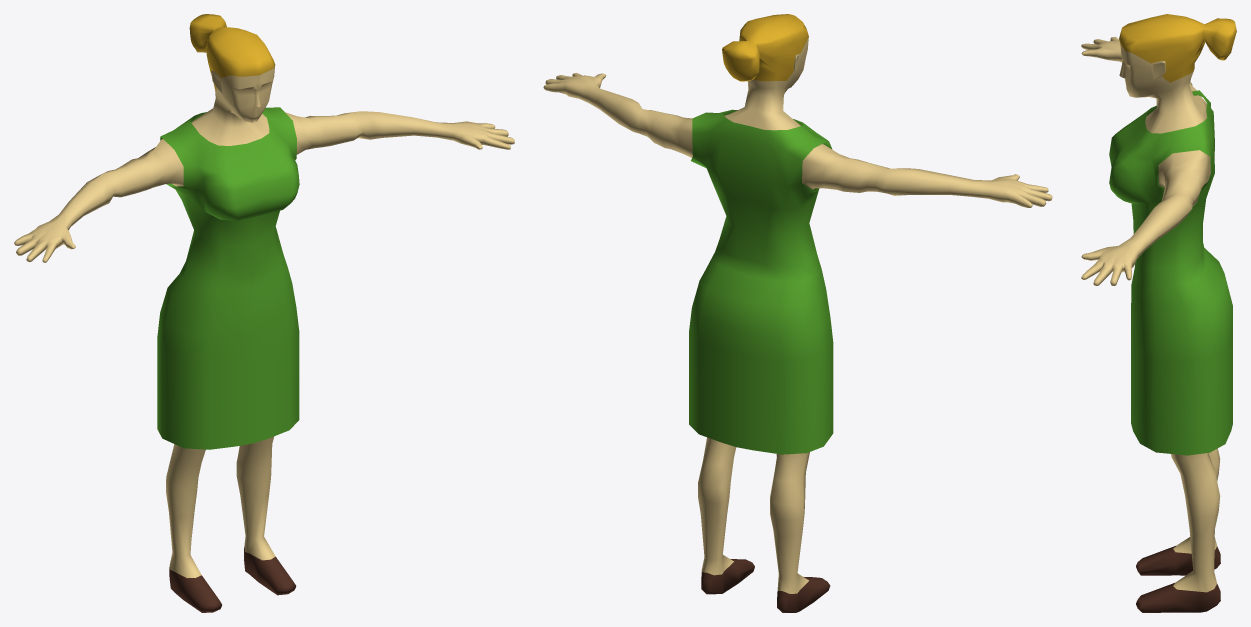
The model's file is Shop Owner.fbx.
3 renders of one model, left to right at view 1: azimuth 30°, elevation 25°; view 2: azimuth 150°, elevation 25°; view 3: azimuth 270°, elevation 25°, orthographic. The views are drawn at different scales.
Visible parts, largest first — view 1: Owner; view 2: Owner; view 3: Owner.
Part boxes in pixels (x1,y1,x2,y2): Owner: (14, 14, 514, 612); Owner: (543, 14, 1052, 612); Owner: (1081, 14, 1236, 612).
Bounding box in the file's own units: 165 × 179 × 44.29.
